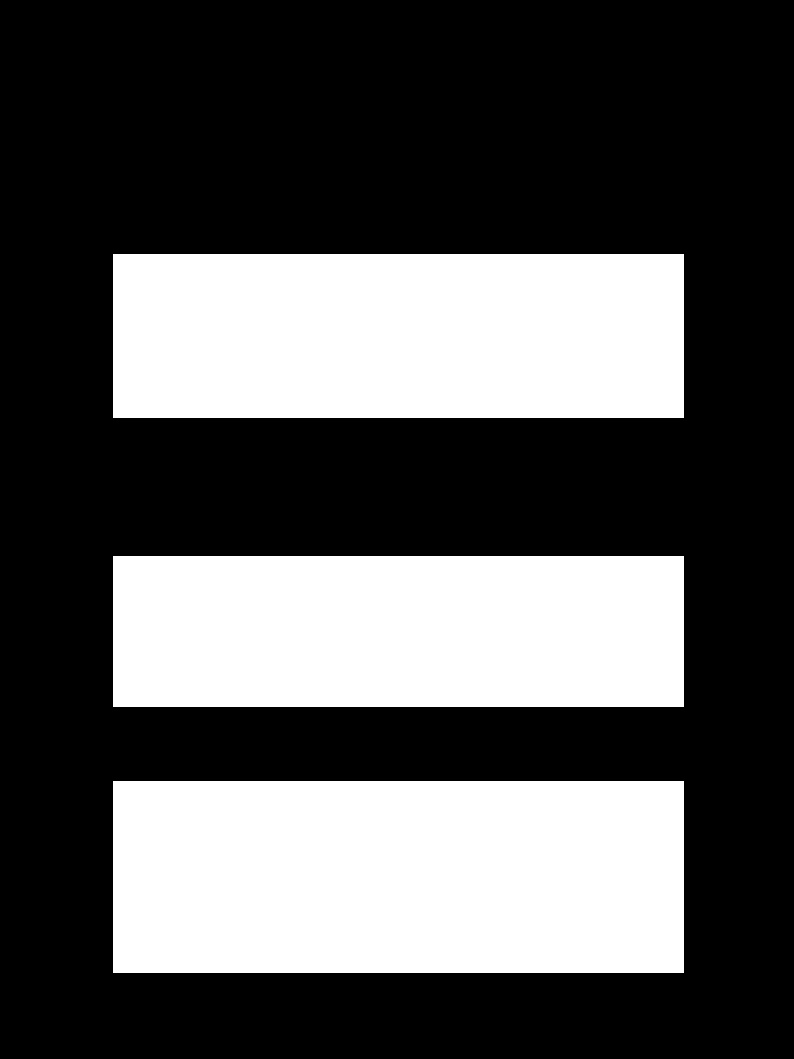table: (113, 781, 683, 972), (113, 254, 683, 417), (113, 556, 683, 706)
